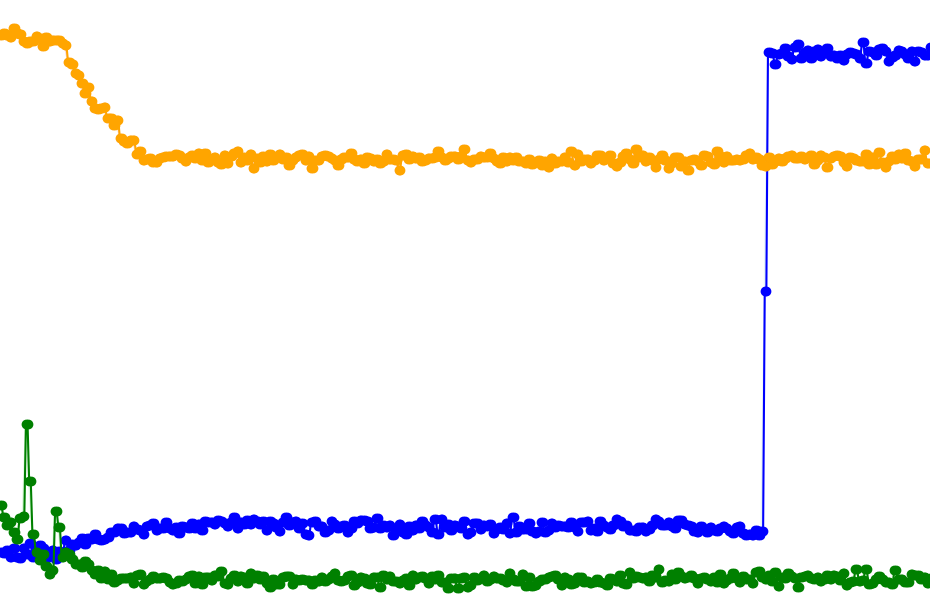Condensation CO2: (38, 0, 311, 616), (738, 0, 930, 616), (311, 0, 388, 616)
Condensation O2: (311, 0, 388, 616)
High O2: (38, 0, 311, 616)
Low CO2: (311, 0, 738, 616), (155, 0, 311, 616)
Normal: (0, 0, 930, 616), (38, 0, 155, 616), (0, 0, 38, 616)
O2 Problem: (311, 0, 738, 616), (738, 0, 930, 616), (155, 0, 311, 616)
